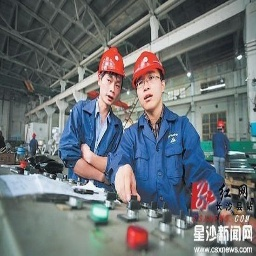helmet: (97, 49, 126, 78), (133, 49, 163, 77)
no-vest: (129, 109, 191, 202), (67, 100, 126, 178)
person: (128, 47, 195, 222), (72, 47, 128, 191)
